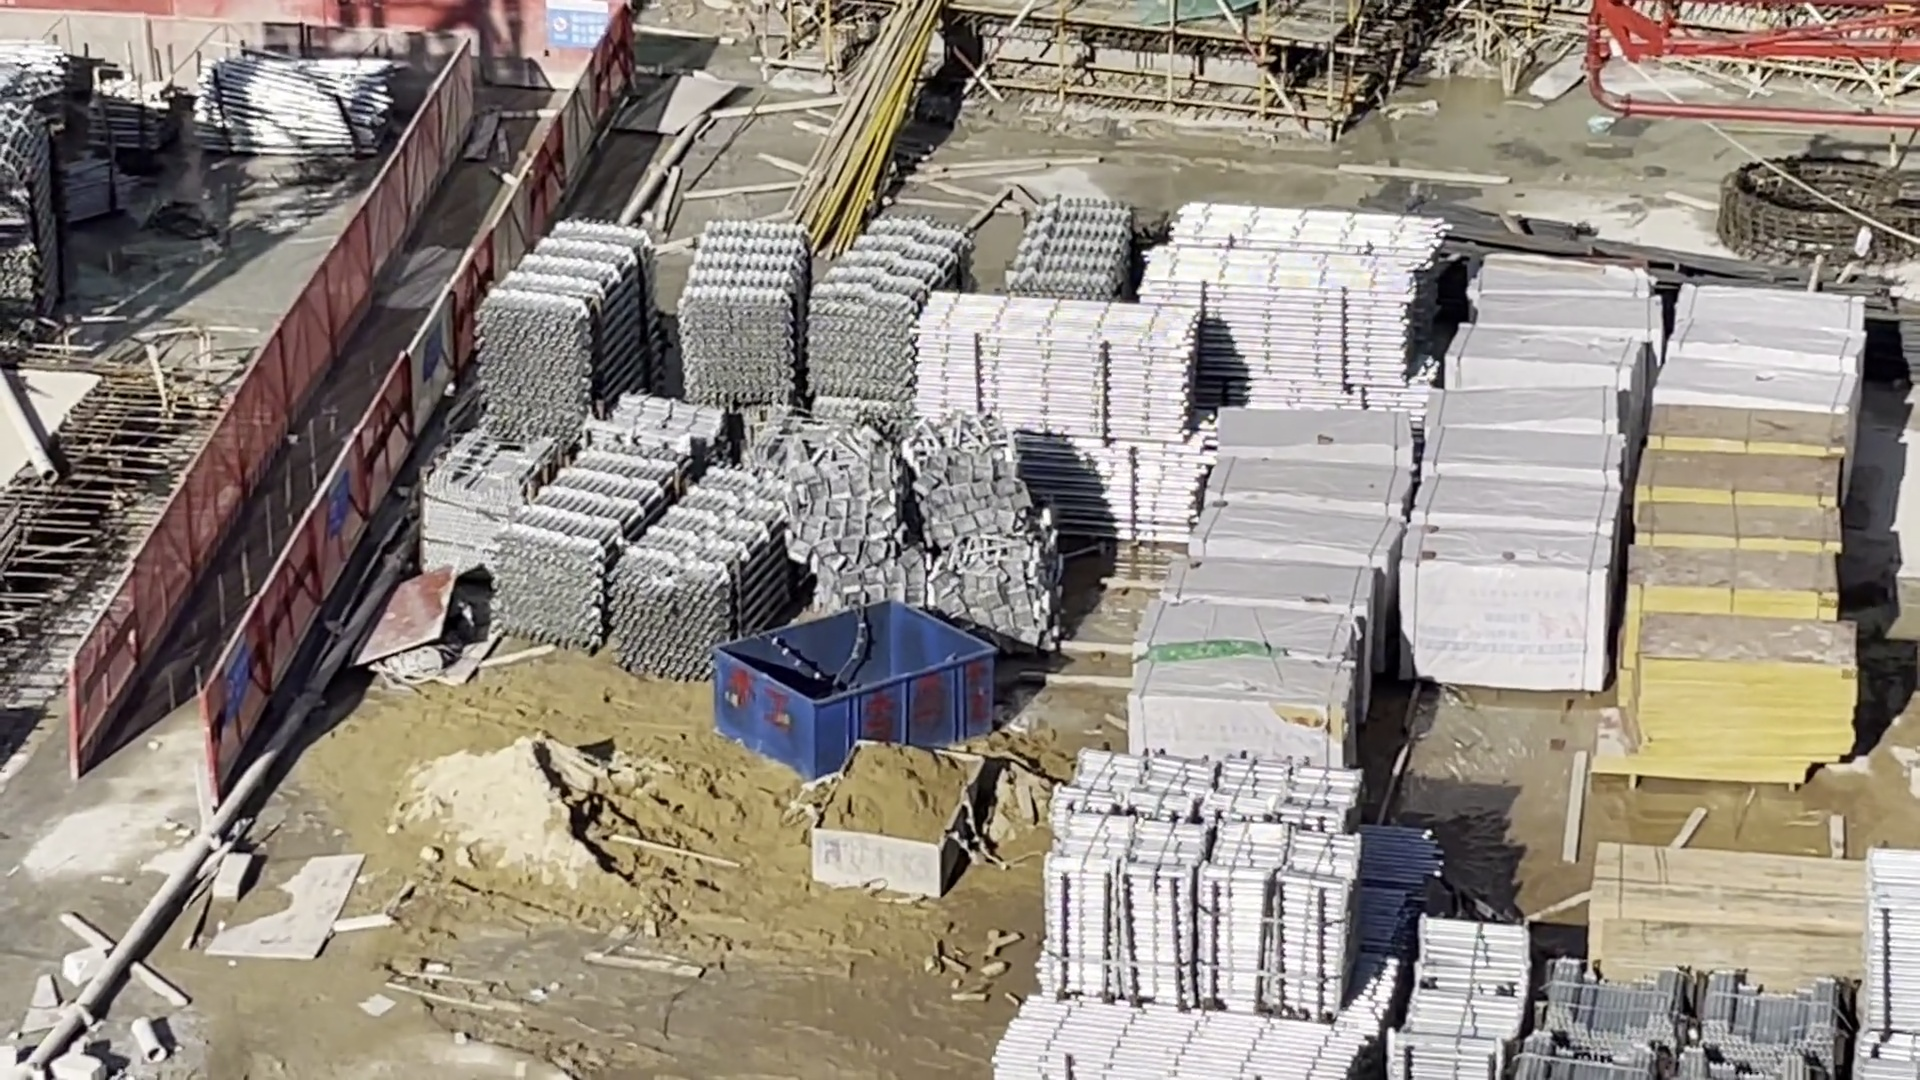board: (1625, 407, 1836, 775), (1592, 847, 1861, 989)
fence: (79, 51, 615, 754), (3, 1, 546, 88)
hopper: (713, 601, 996, 779), (812, 738, 986, 899)
rebar: (1436, 199, 1915, 357)
scaffold: (1050, 754, 1352, 1007), (916, 295, 1203, 518), (512, 456, 793, 661), (1150, 214, 1432, 384), (676, 223, 967, 388), (1527, 960, 1847, 1080), (479, 225, 655, 430), (996, 1004, 1356, 1080), (1398, 919, 1524, 1080), (196, 54, 392, 146), (1851, 857, 1920, 1062), (1, 98, 55, 343), (1023, 200, 1135, 297), (90, 84, 166, 146)
slogan: (543, 1, 615, 53), (324, 464, 352, 535), (224, 641, 247, 715)
